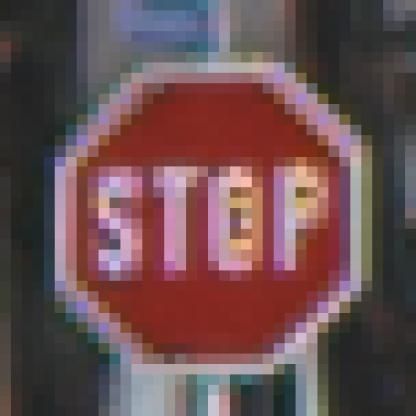Stop: (66, 66, 362, 362)
